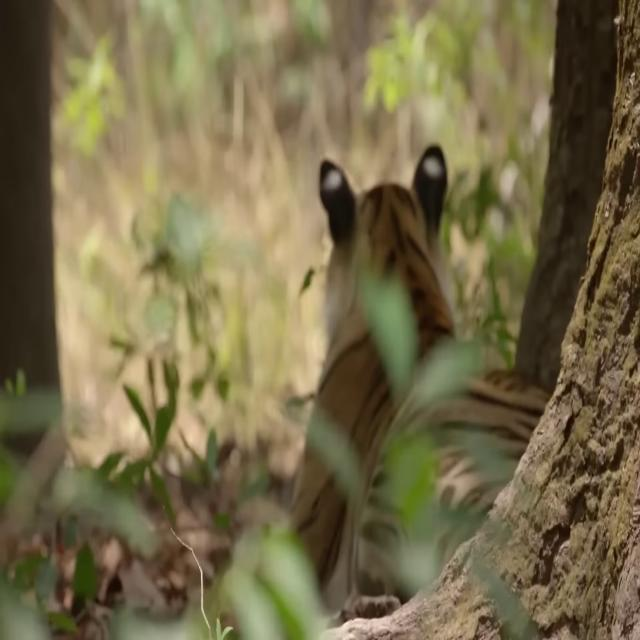tiger: (283, 140, 553, 624)
